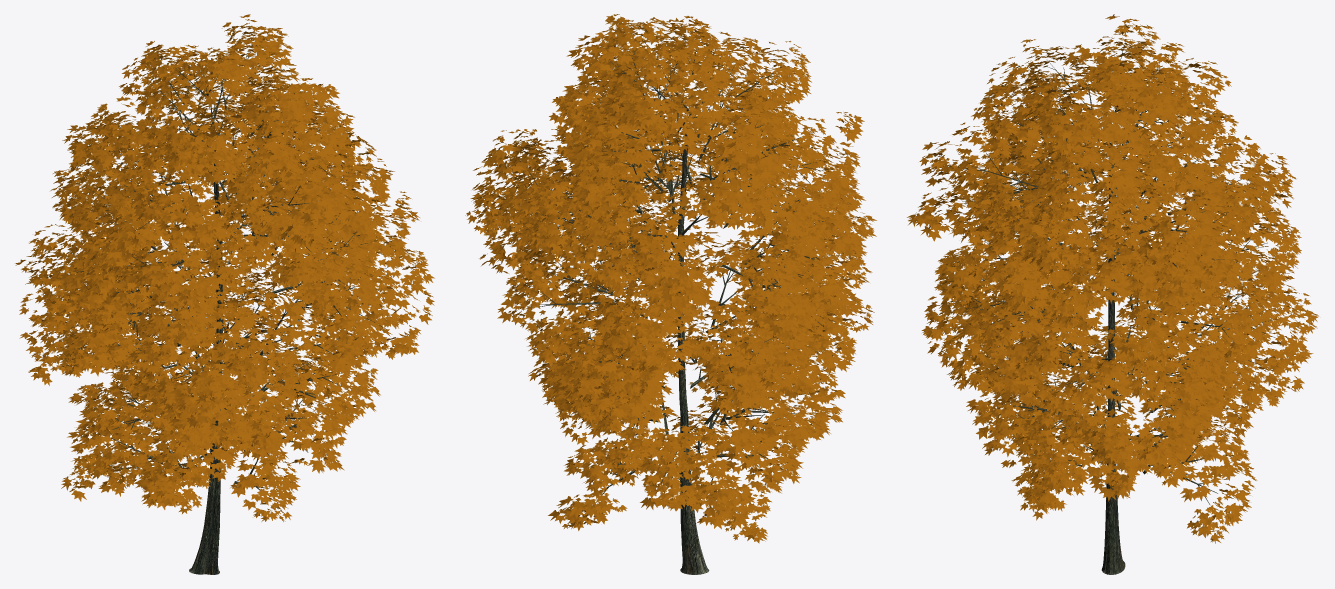
File: 黄色树.fbx
3 views of the same model, side by side, from view 1: azimuth 30°, elevation 25°; view 2: azimuth 150°, elevation 25°; view 3: azimuth 270°, elevation 25° (orthographic). The views are drawn at different scales.
Visible parts, largest first — view 1: 树3; view 2: 树3; view 3: 树3.
Boxes of the visible parts, x1,y1,x2,y2 form: 树3: [15, 14, 434, 574]; 树3: [465, 14, 876, 574]; 树3: [907, 14, 1318, 574].
Size of the model in its own units: 465 by 689 by 480.
Materials: 2 (1 with a texture image).
